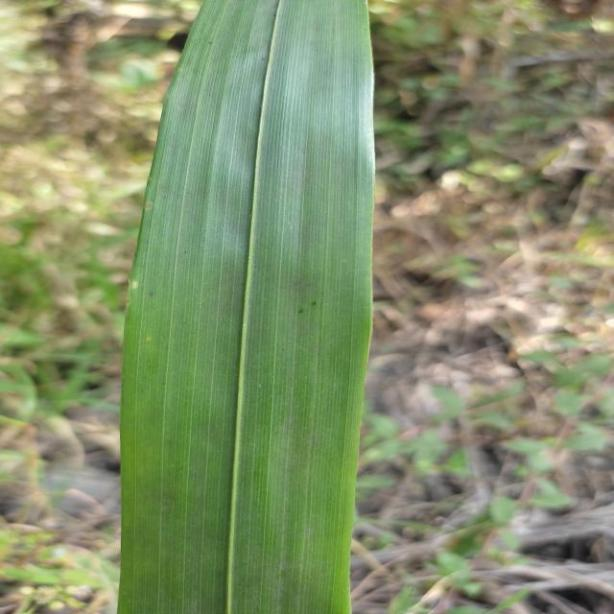Healthy: (123, 1, 379, 614)
